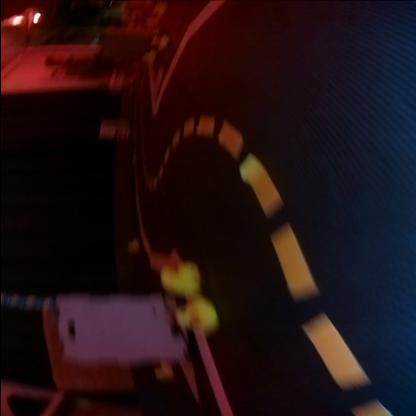Duckie: (175, 300, 214, 334), (160, 266, 196, 294)
